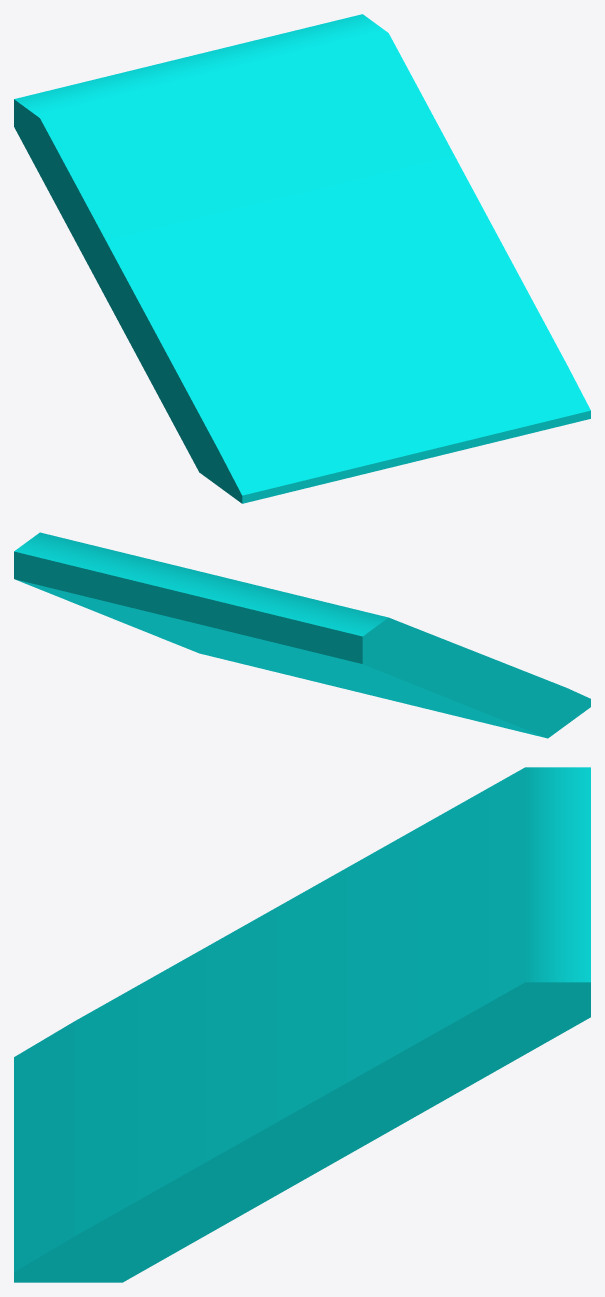
Rendered from SM_Bld_Stairs_Wide_02_Collision.fbx.
3 renders of one model, top to bottom at view 1: azimuth 30°, elevation 25°; view 2: azimuth 150°, elevation 25°; view 3: azimuth 270°, elevation 25°, orthographic. The views are drawn at different scales.
Parts seen in each view (by area): view 1: SM_Bld_Stairs_Wide_02_Collision; view 2: SM_Bld_Stairs_Wide_02_Collision; view 3: SM_Bld_Stairs_Wide_02_Collision.
Boxes of the visible parts, bbox=[...] form: SM_Bld_Stairs_Wide_02_Collision: bbox=[14, 14, 590, 503]; SM_Bld_Stairs_Wide_02_Collision: bbox=[14, 532, 590, 738]; SM_Bld_Stairs_Wide_02_Collision: bbox=[14, 767, 590, 1282].
Bounding box in the file's own units: 244 × 159 × 276.
